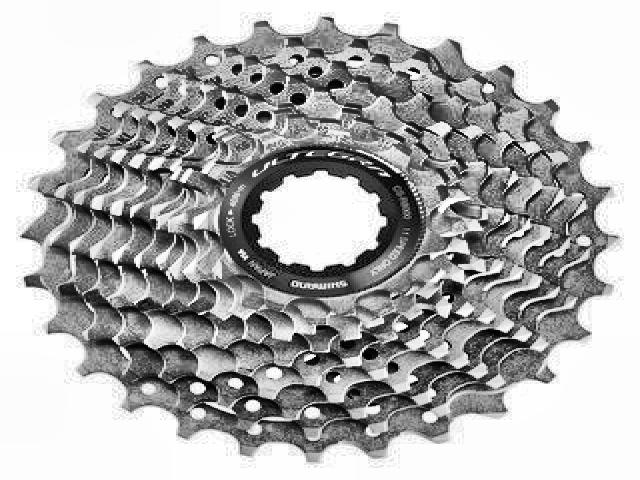cassette: (16, 13, 617, 465)
